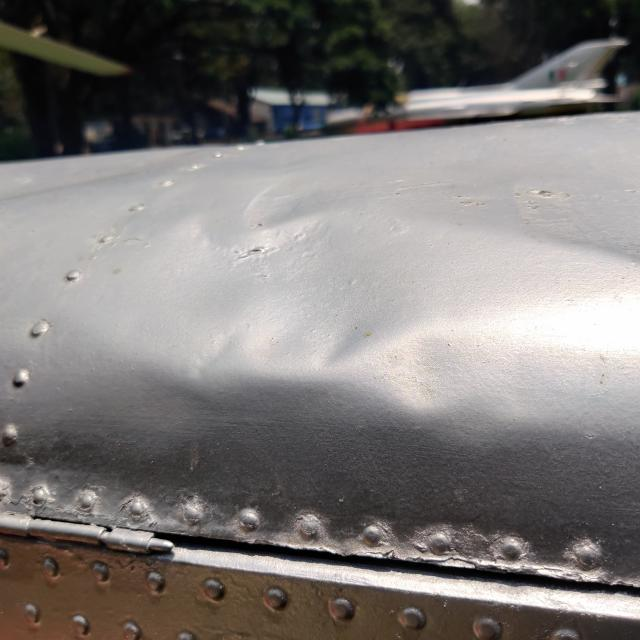dent: (96, 147, 493, 444)
